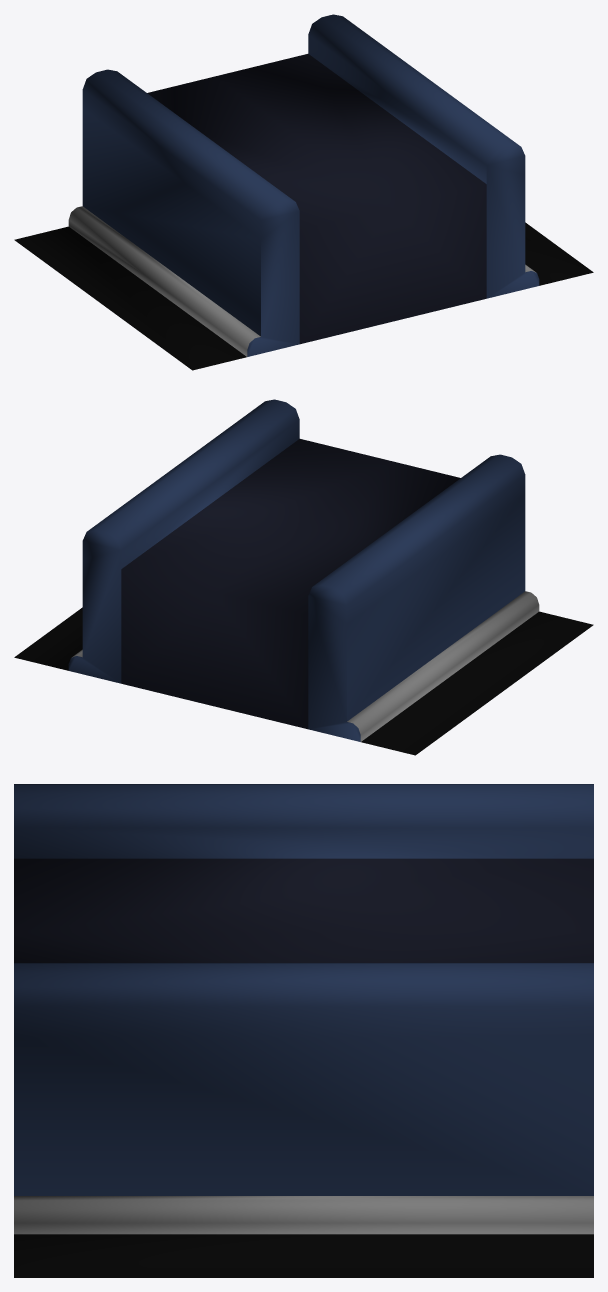
File: Conveyor Up.fbx
3 renders of one model, top to bottom at view 1: azimuth 30°, elevation 25°; view 2: azimuth 150°, elevation 25°; view 3: azimuth 270°, elevation 25°, orthographic. The views are drawn at different scales.
Parts seen in each view (by area): view 1: Conveyor Up; view 2: Conveyor Up; view 3: Conveyor Up.
Boxes of the visible parts, x1,y1,x2,y2 form: Conveyor Up: (14,14,593,370); Conveyor Up: (14,399,593,755); Conveyor Up: (14,784,593,1277).
Size of the model in its own units: 260 by 91.17 by 200.
